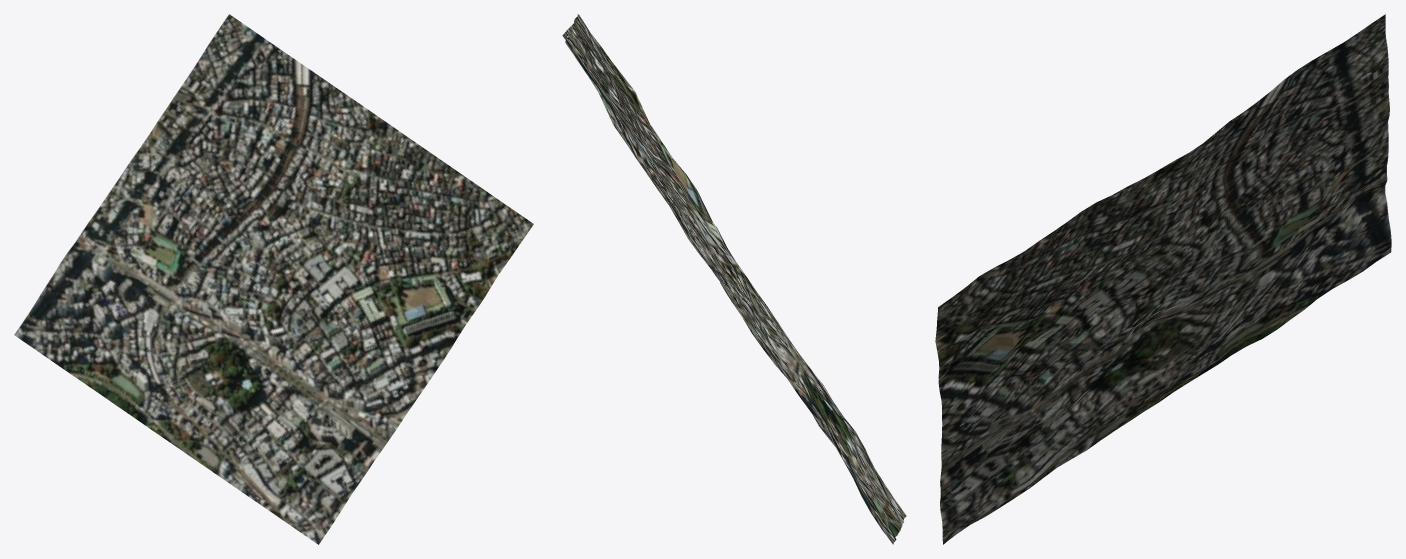
3 views of the same model, side by side, from view 1: azimuth 30°, elevation 25°; view 2: azimuth 150°, elevation 25°; view 3: azimuth 270°, elevation 25° (orthographic). The views are drawn at different scales.
Bounding box in the file's own units: 1075 × 1141 × 818.
Materials: 1 (1 with a texture image).
